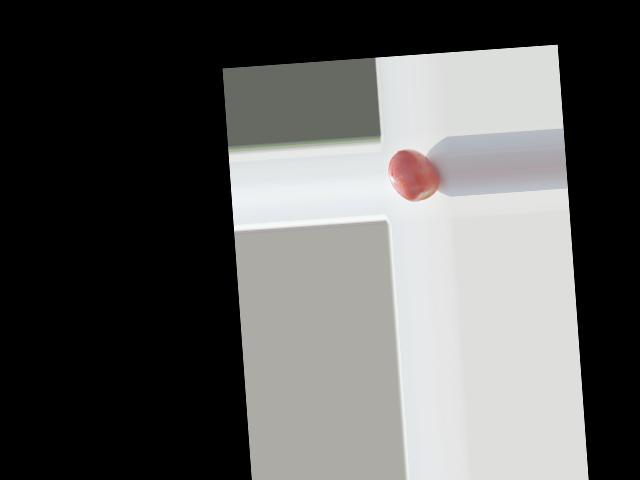tomato: (386, 146, 440, 203)
